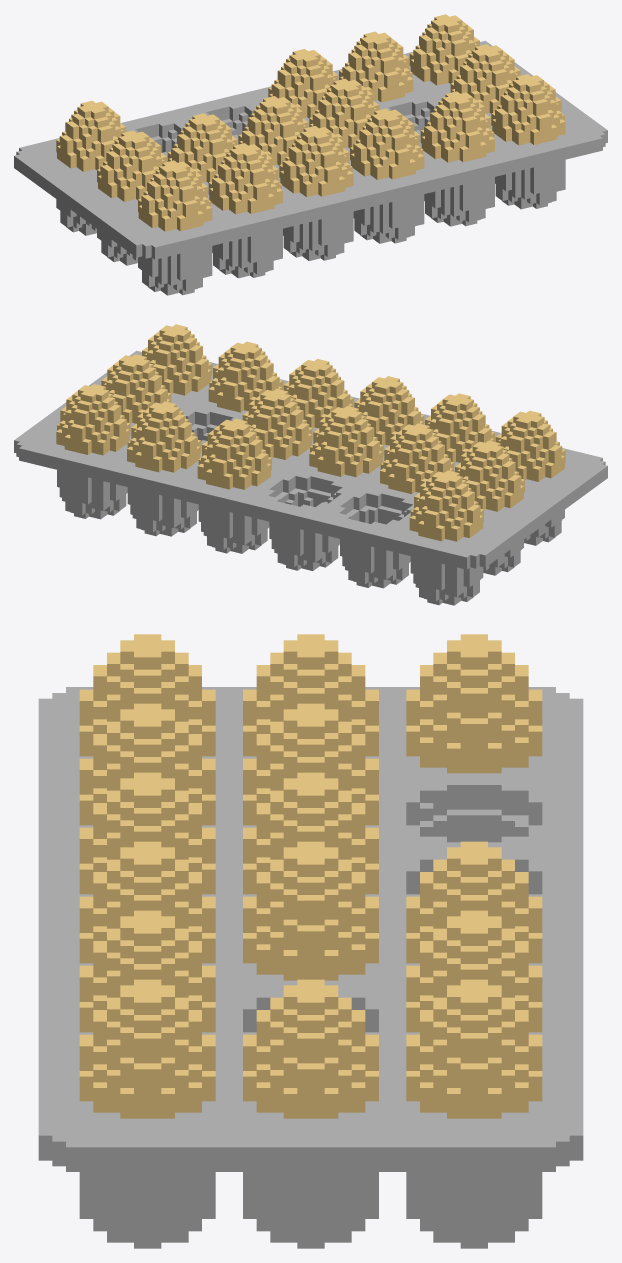
Rendered from eggs-with box.fbx.
The picture shows the model from 3 angles, top to bottom: view 1: azimuth 30°, elevation 25°; view 2: azimuth 150°, elevation 25°; view 3: azimuth 270°, elevation 25°; orthographic projection. The views are drawn at different scales.
Parts seen in each view (by area): view 1: Polygon; view 2: Polygon; view 3: Polygon.
Boxes of the visible parts, x1,y1,x2,y2 form: Polygon: (14,14,607,295); Polygon: (14,324,607,605); Polygon: (38,634,583,1248).
Size of the model in its own units: 8 by 1.9 by 4.
1 material, 1 textured.
